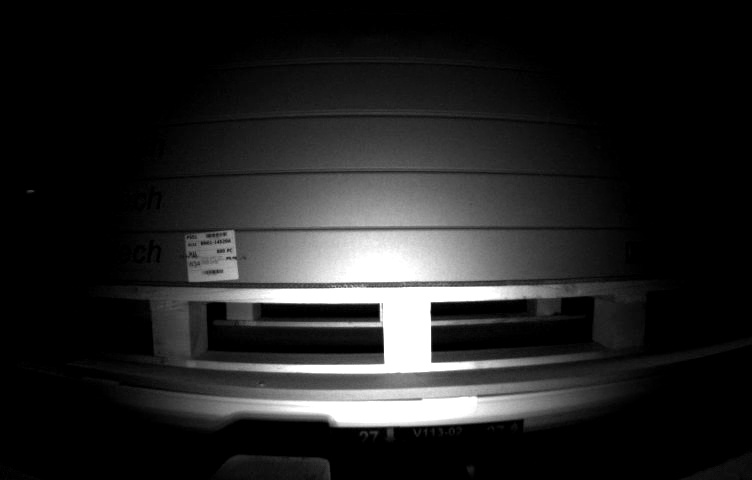True Barcode: (182, 231, 239, 283)
